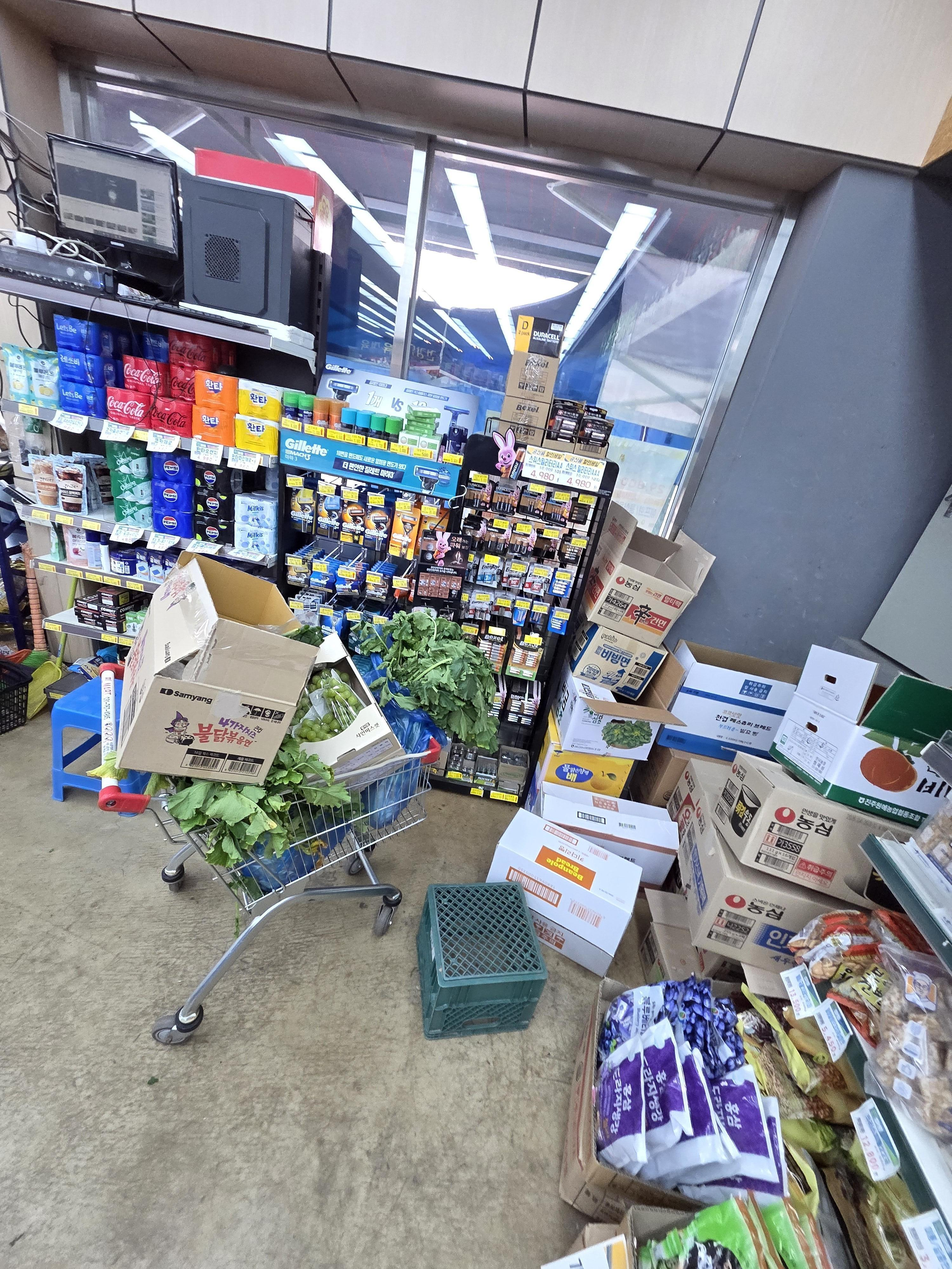fully_cart: (95, 553, 512, 1063)
